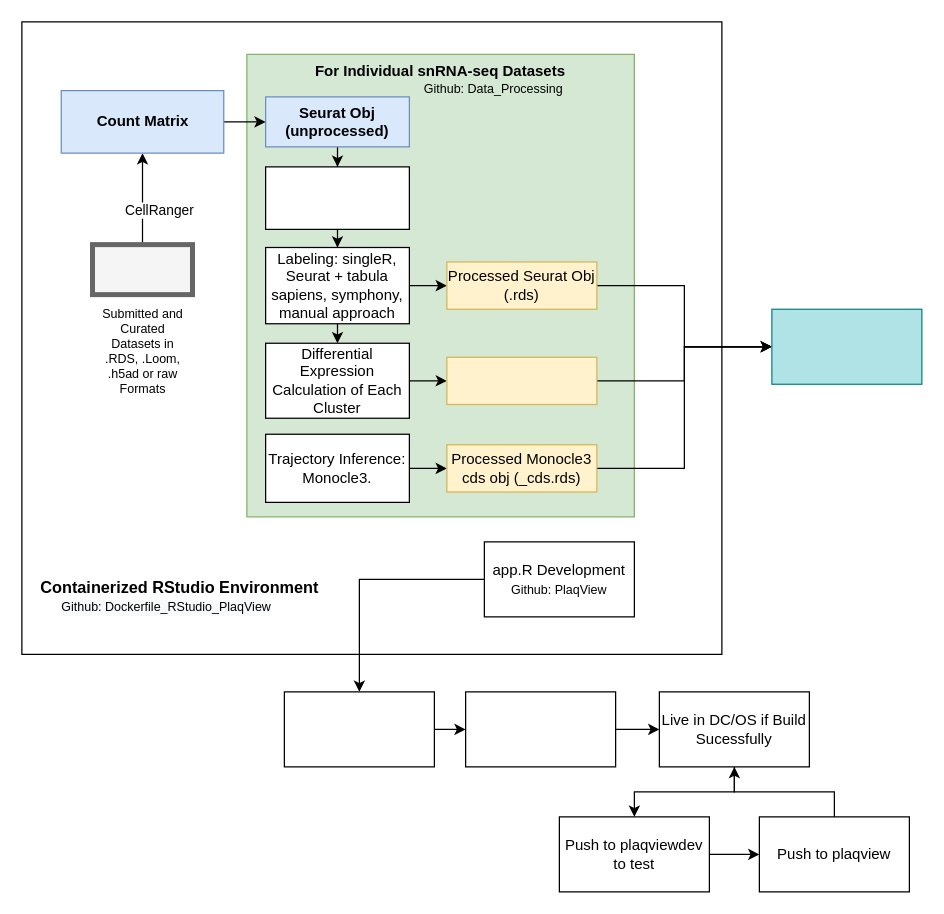
The diagram is 944 pixels wide and 914 high, and some of its shapes have lost their labels. The box of each missing label's shape, as (x1, y1, x2, y2) in pixels:
Calculated Gene Tables (.csv): (446, 356, 597, 404)
FASTQ/Raw Sequencing: (89, 242, 194, 296)
GitHub Action Builds Env via Dockerfile: (464, 691, 616, 767)
Push to GitHub: (283, 691, 434, 767)
Seurat: preprocess and Normalization: (264, 166, 409, 229)
UVA Firewall Storage: (771, 308, 922, 384)
